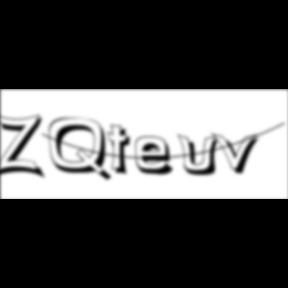Q: (49, 117, 115, 184)
Z: (0, 112, 48, 181)
e: (135, 135, 181, 178)
t: (107, 124, 138, 179)
u: (178, 132, 226, 178)
v: (212, 131, 266, 177)
